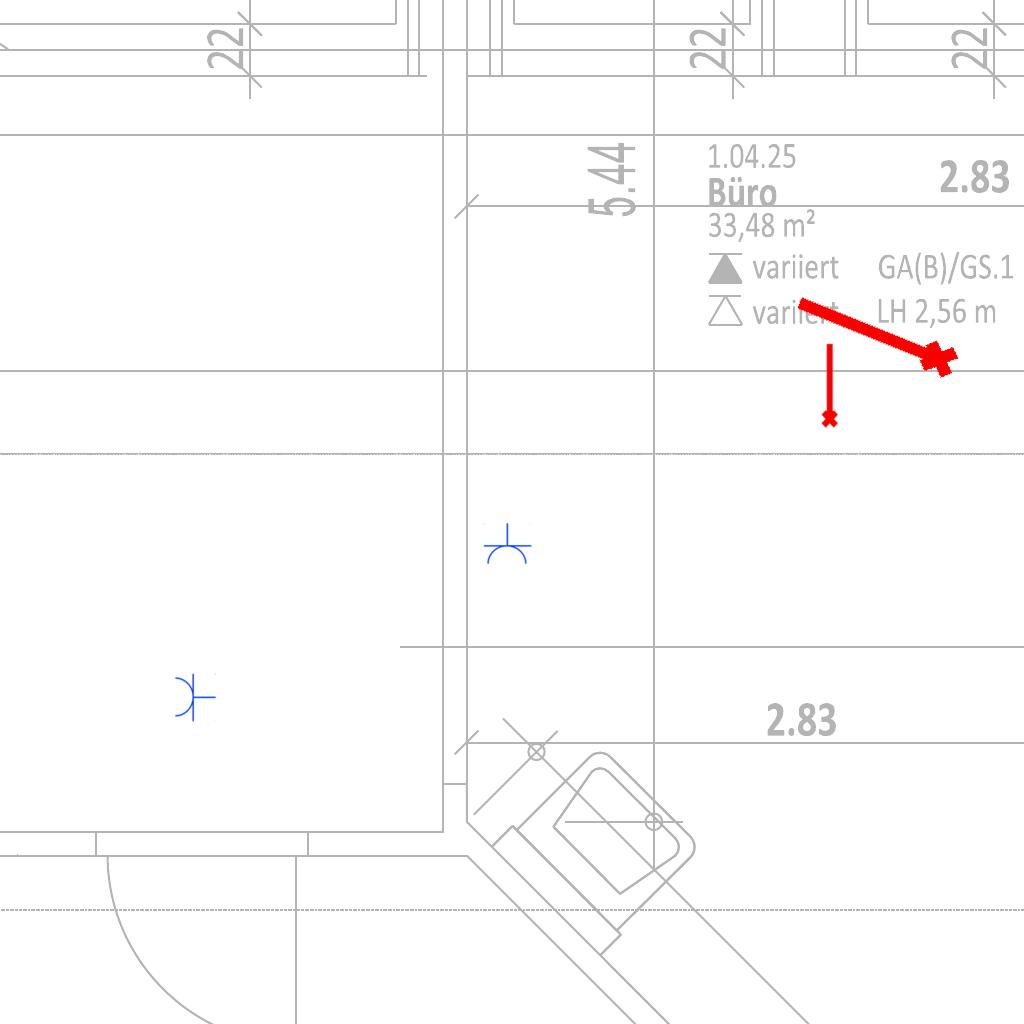ASR_Ansaugoeffnung: (784, 281, 966, 391), (817, 341, 840, 429)
Schukosteckdose_einfach: (482, 523, 532, 566), (173, 672, 216, 722)
